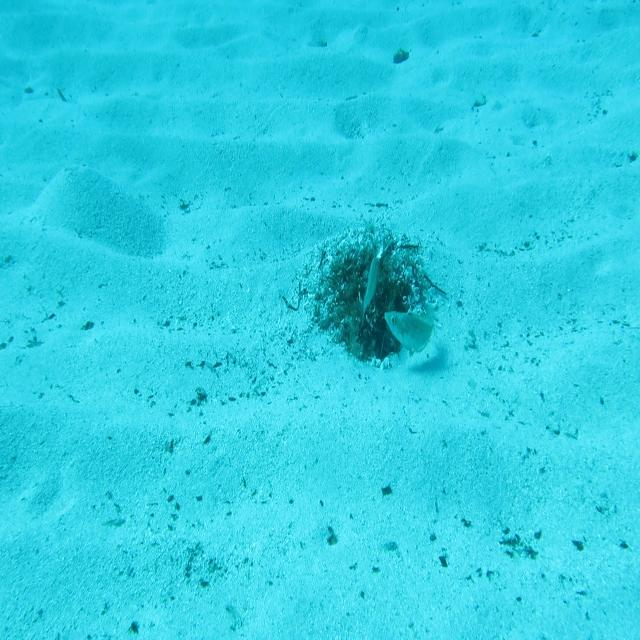BEND: (383, 287, 437, 358)
female: (357, 252, 382, 332)
nest: (314, 218, 443, 370)
